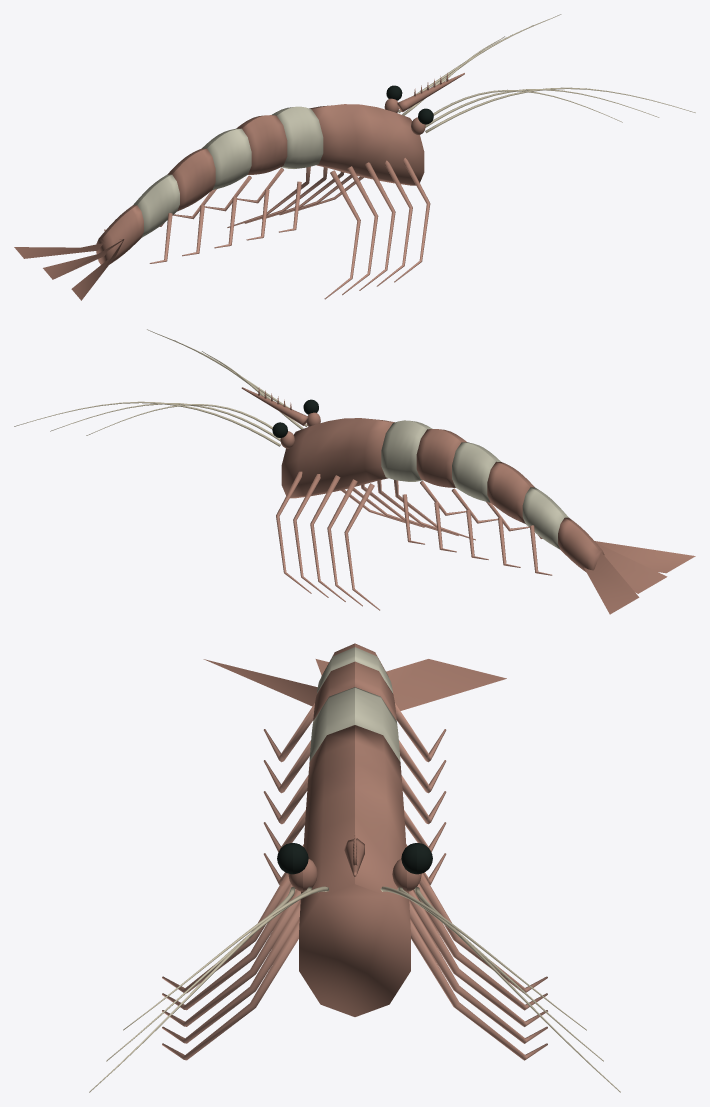
Rendered from crystal-mobile.glb.
3 renders of one model, top to bottom at view 1: azimuth 30°, elevation 25°; view 2: azimuth 150°, elevation 25°; view 3: azimuth 270°, elevation 25°, orthographic. The views are drawn at different scales.
Visible parts, largest first — view 1: carapace, pereiopod, antenna, pleopod, serrated-rostrum; view 2: carapace, pereiopod, antenna, pleopod, serrated-rostrum; view 3: carapace, pereiopod, pleopod, antenna, eye, eye-stalk.
Boxes of the visible parts, x1=… form: carapace: x1=14, y1=104, x2=424, y2=300; pereiopod: x1=227, y1=158, x2=430, y2=299; antenna: x1=398, y1=14, x2=695, y2=133; pleopod: x1=104, y1=167, x2=301, y2=263; serrated-rostrum: x1=397, y1=73, x2=464, y2=111; carapace: x1=281, y1=418, x2=695, y2=614; pereiopod: x1=276, y1=471, x2=475, y2=610; antenna: x1=14, y1=329, x2=307, y2=446; pleopod: x1=402, y1=480, x2=552, y2=575; serrated-rostrum: x1=241, y1=387, x2=308, y2=425; carapace: x1=203, y1=643, x2=506, y2=1016; pereiopod: x1=162, y1=844, x2=547, y2=1060; pleopod: x1=263, y1=703, x2=446, y2=884; antenna: x1=89, y1=886, x2=620, y2=1092; eye: x1=277, y1=843, x2=432, y2=874; eye-stalk: x1=288, y1=859, x2=421, y2=891.
Bounding box in the file's own units: 1.18 × 0.2938 × 0.4707.
